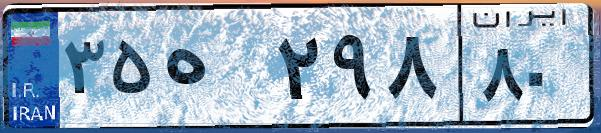0: (525, 38, 570, 115)
2: (270, 28, 330, 110)
3: (57, 26, 110, 100)
5: (110, 28, 158, 98)
8: (385, 28, 445, 110), (475, 38, 525, 113)
9: (330, 28, 385, 110)
ه: (158, 20, 270, 120)
